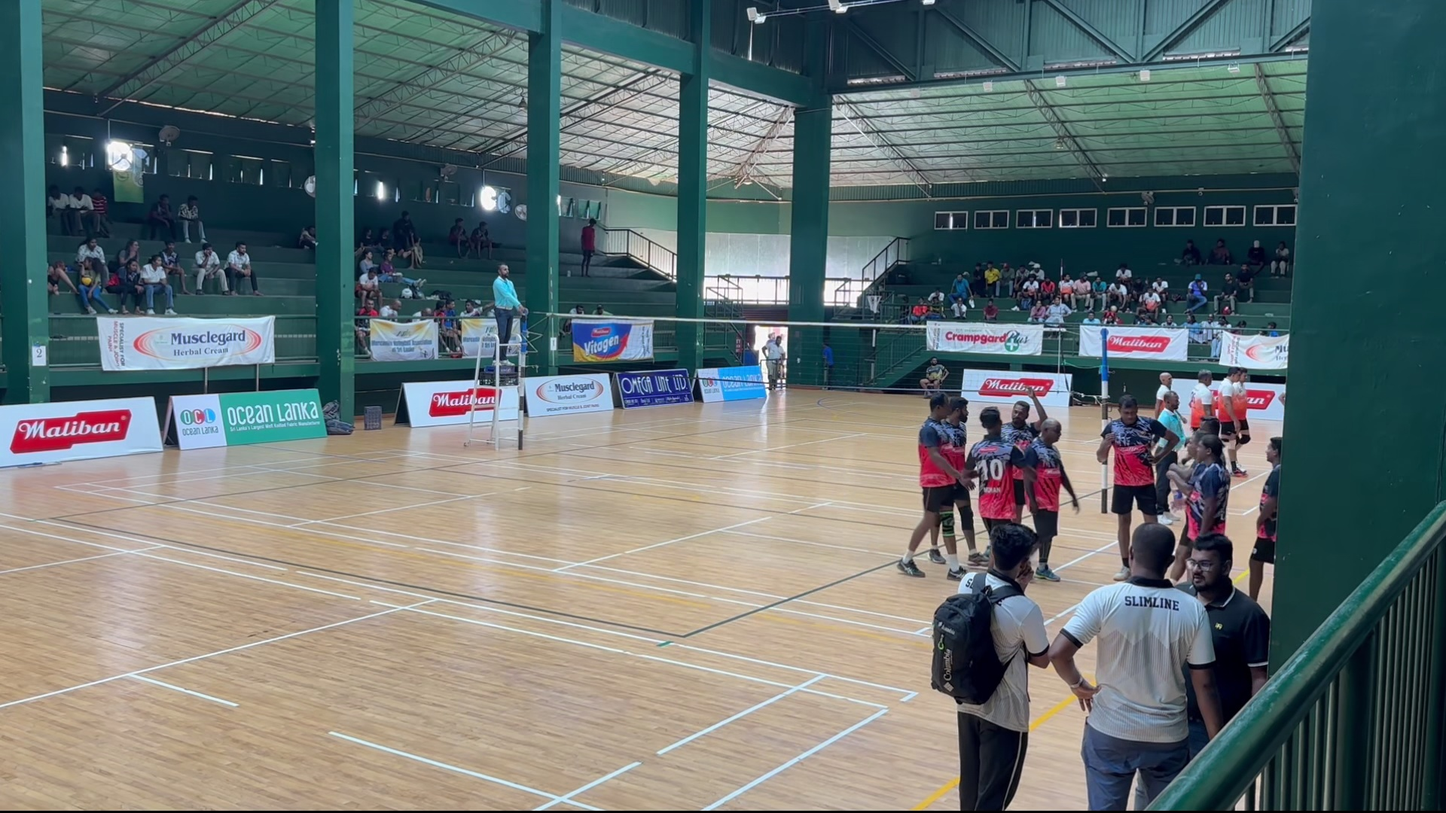Ball: (490, 259, 530, 370)
Payer_B: (900, 392, 967, 584), (913, 394, 975, 573), (1099, 398, 1161, 564), (1025, 418, 1078, 586), (940, 399, 983, 575), (971, 417, 1014, 568), (1004, 403, 1040, 537)
